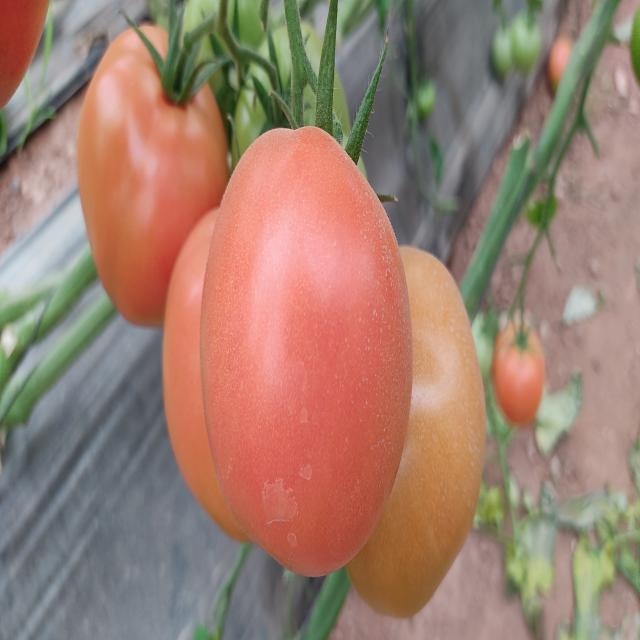Ripe Tomato: (218, 122, 412, 584), (64, 16, 229, 300), (388, 238, 495, 614), (158, 190, 240, 526), (493, 308, 548, 422), (0, 0, 48, 112), (544, 36, 570, 74)
Unripe Tomato: (238, 30, 355, 150), (166, 0, 269, 51), (472, 311, 499, 376), (512, 13, 542, 68), (492, 30, 516, 77)
